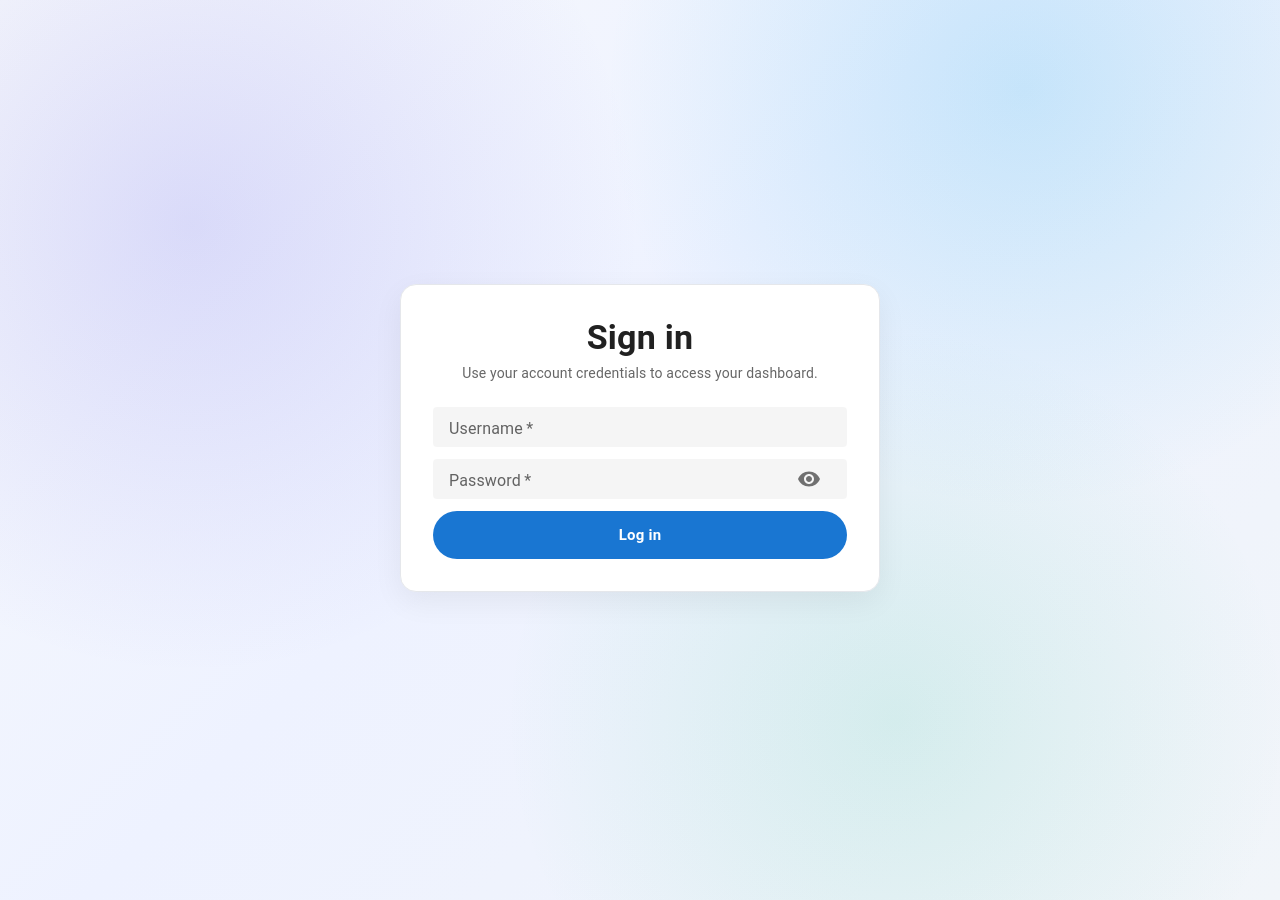
Login component › shows error message on failed login
The width and height of the screenshot is (1280, 900).
In the field labelled "Username *": (640, 428) top-left (449, 416), bottom-right (831, 439), type "wrong"
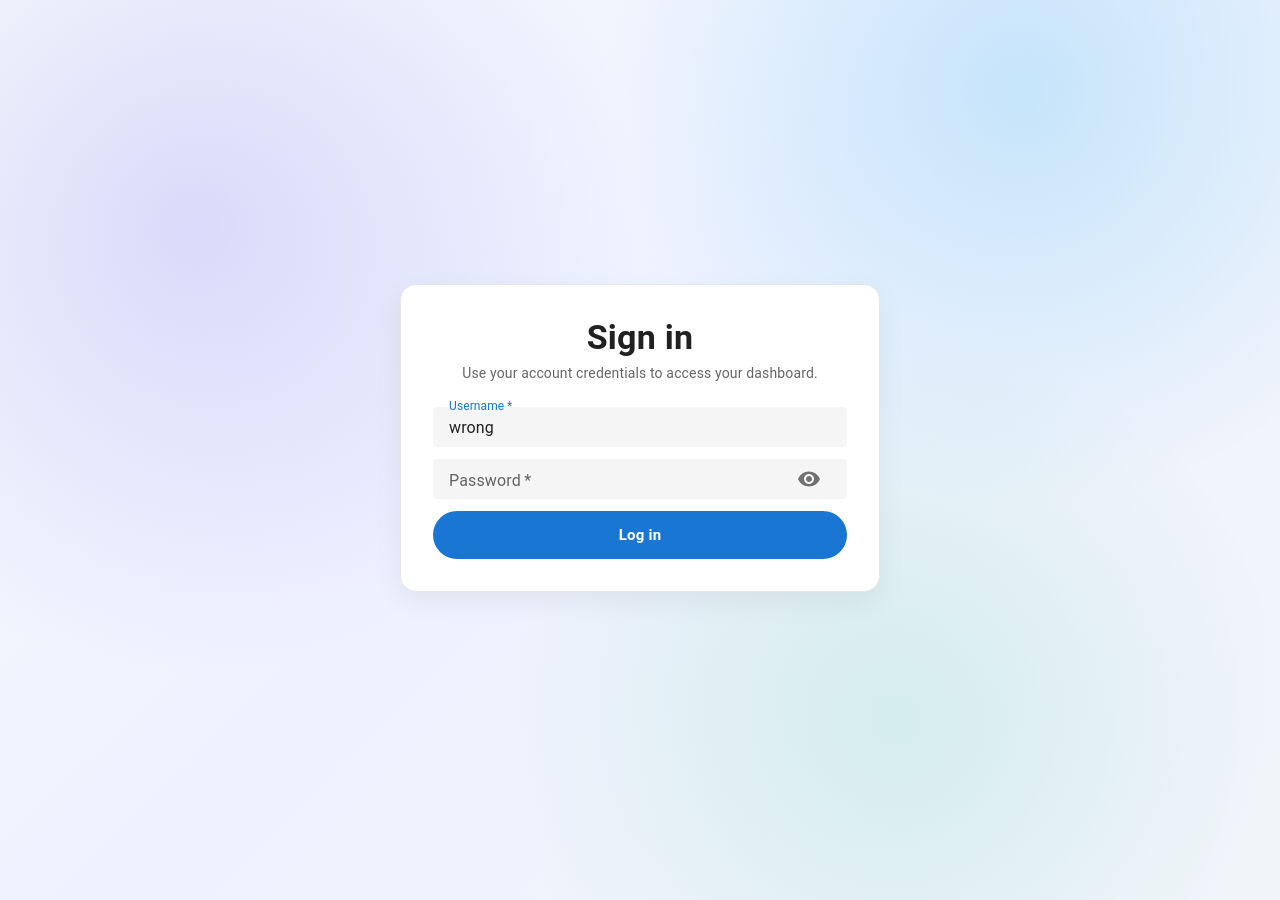
In the password field labelled "Password *": (615, 480) top-left (449, 468), bottom-right (781, 491), type "wrongpass"
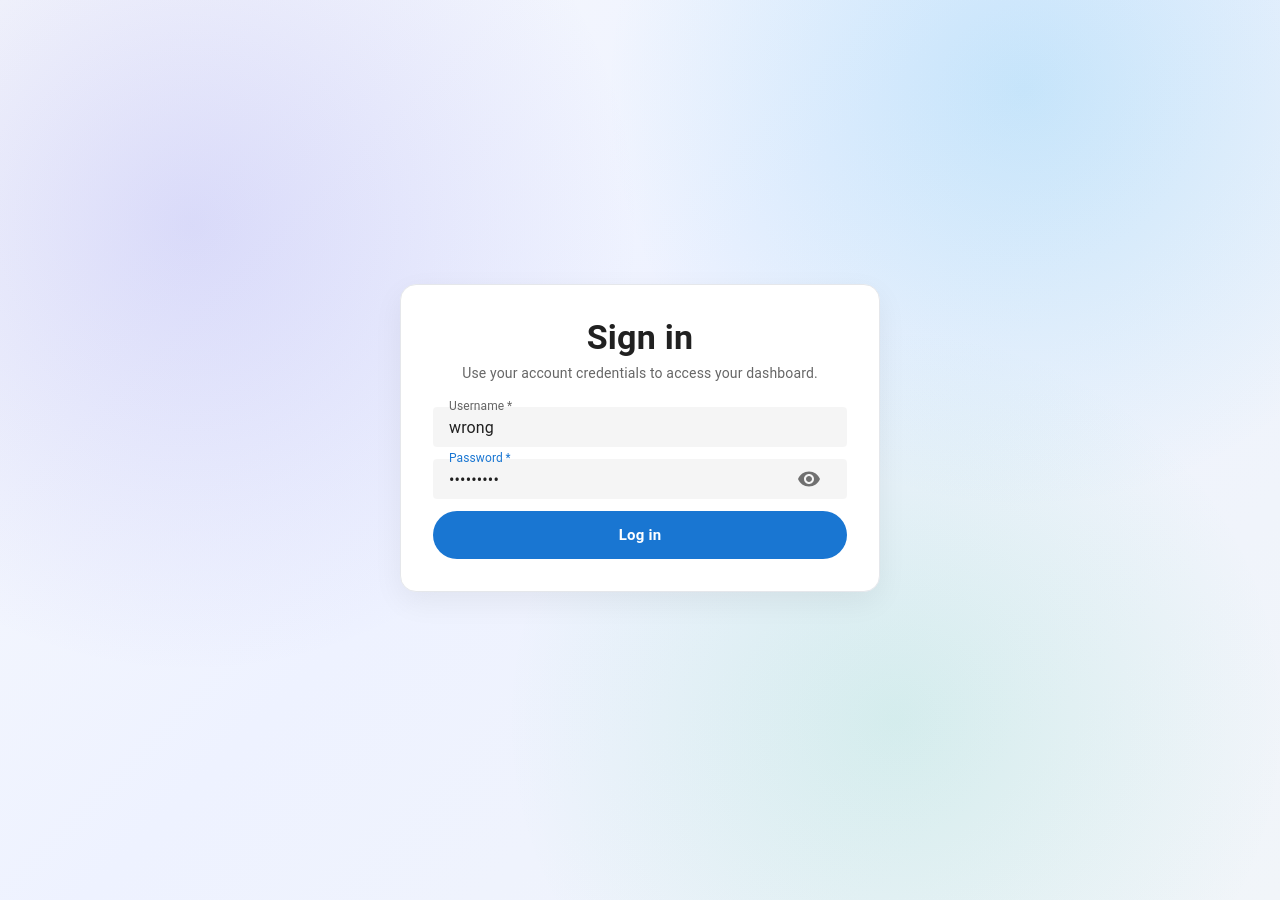
Click the button "Log in": (640, 535) top-left (433, 512), bottom-right (847, 558)
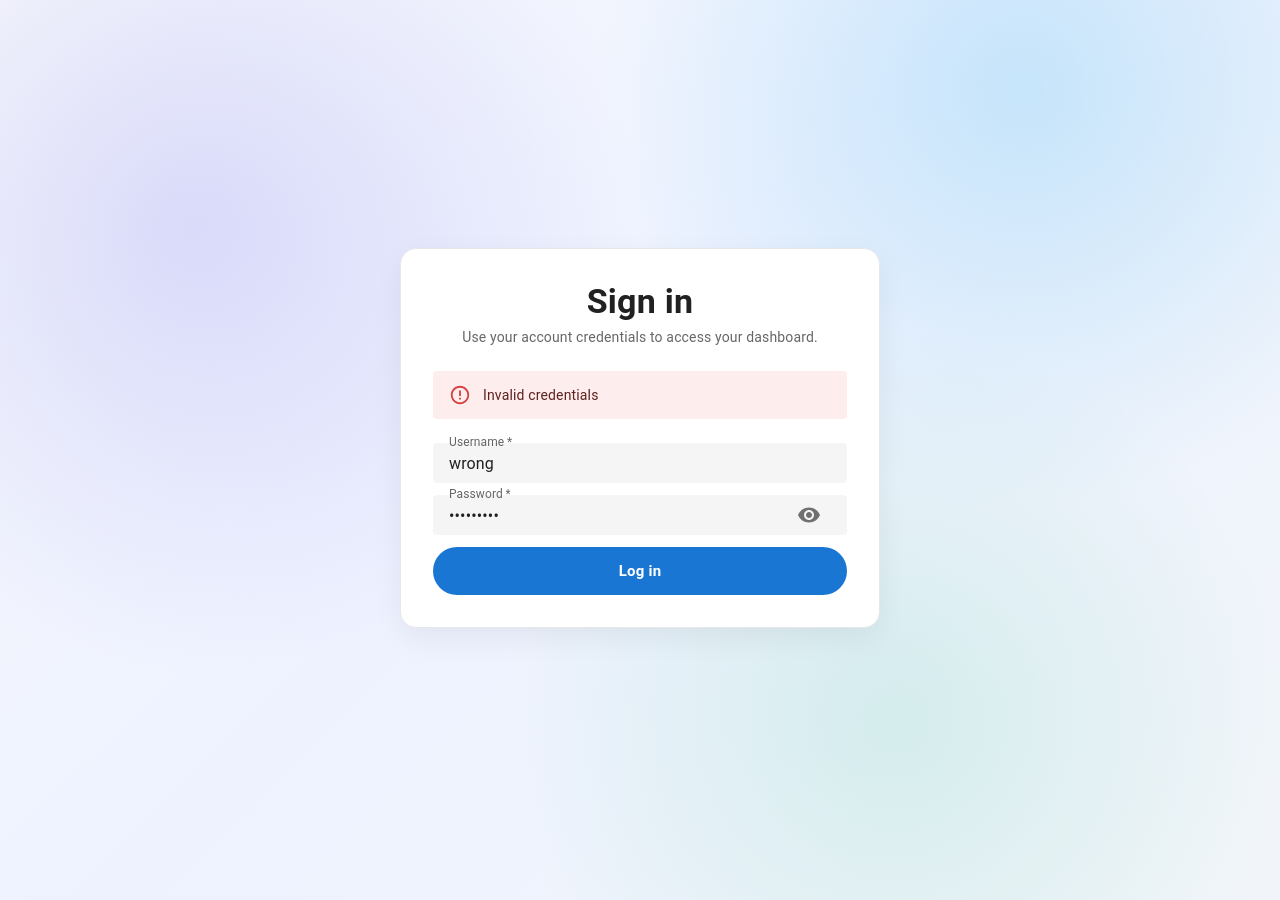
expect the text "Invalid credentials" is shown: met, box top-left (483, 388), bottom-right (598, 404)
